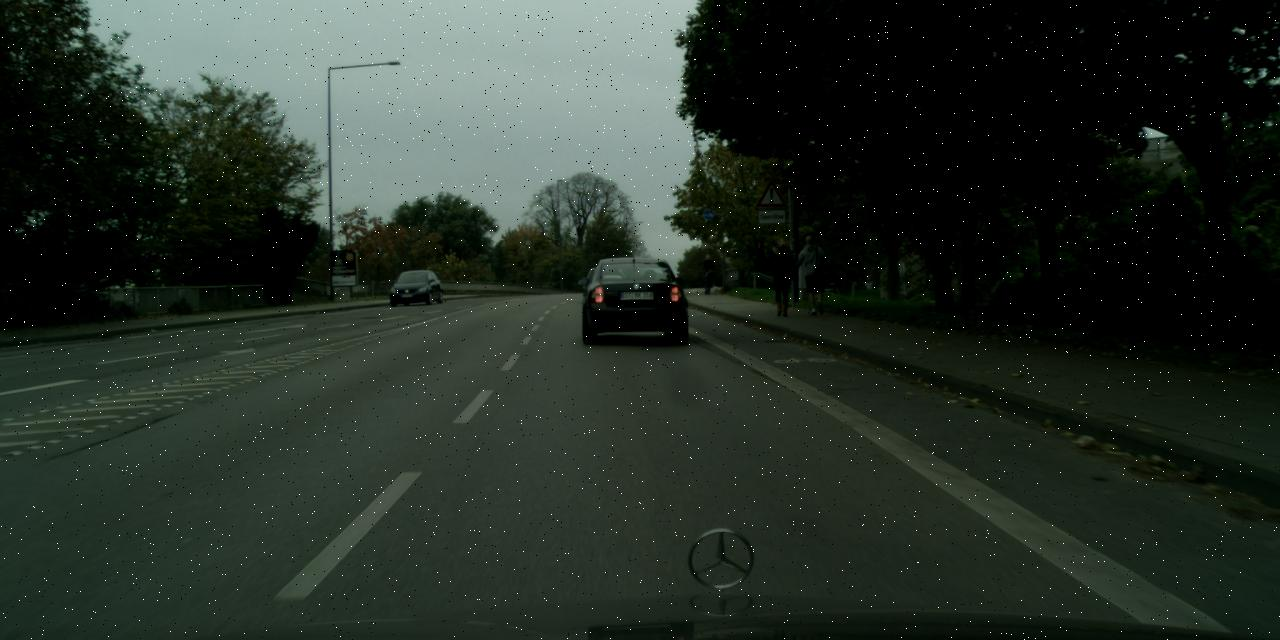ped: (797, 235, 829, 314), (766, 238, 798, 316), (699, 253, 715, 294)
